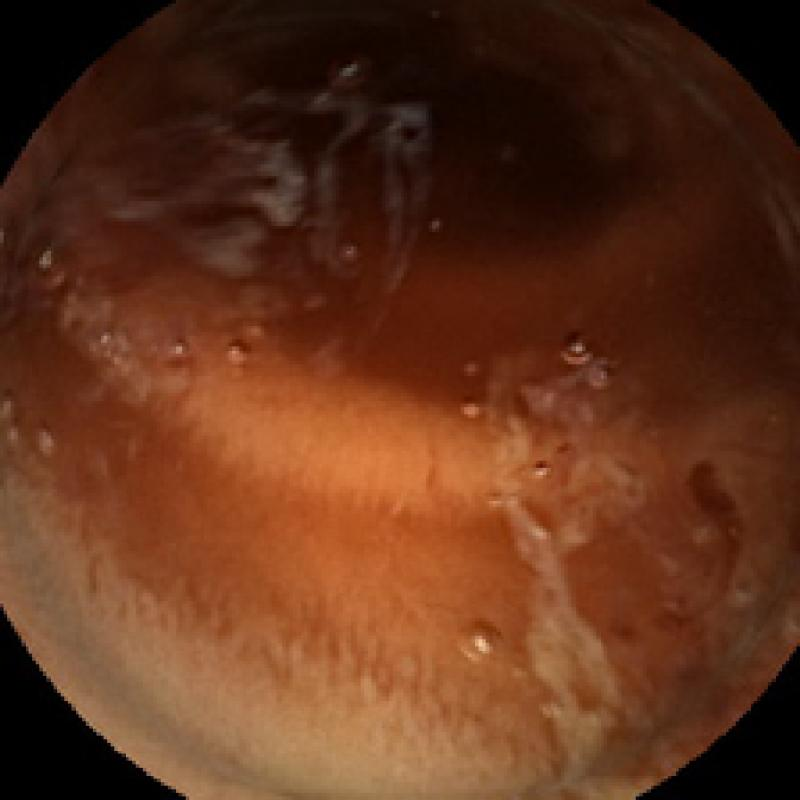bleeding: (664, 446, 786, 646)
